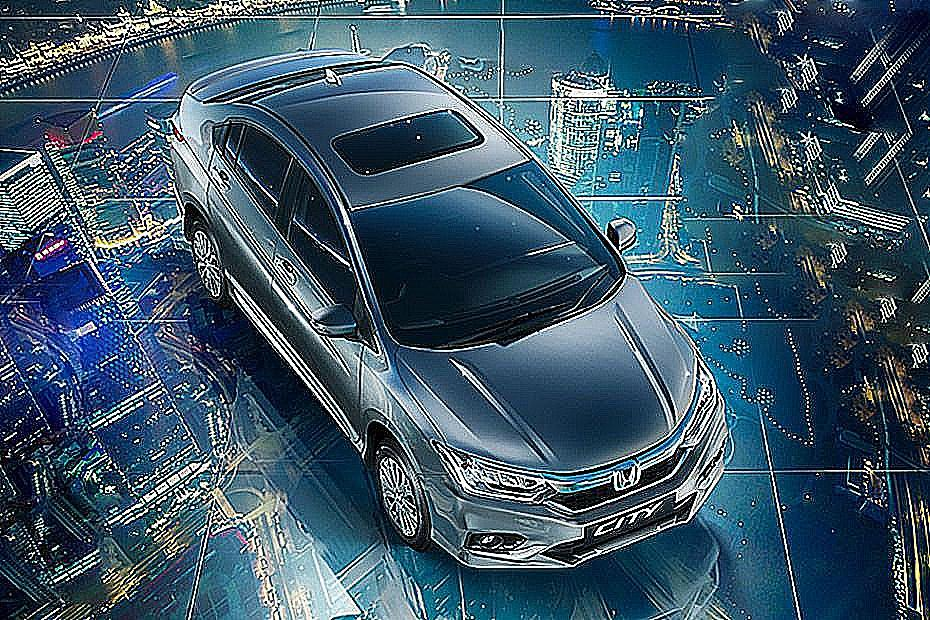Car boot: (177, 43, 367, 114)
Car hood: (396, 282, 707, 470)
Driver-s door - -F-R-: (254, 106, 362, 461)
Fender - -F-R-: (344, 294, 439, 487)
Fender - -R-R-: (158, 96, 228, 212)
Front bumper: (422, 389, 740, 569)
Headlight - -L-: (671, 355, 725, 460)
Headlight - -R-: (430, 436, 557, 510)
Passenger-s door - -R-R-: (195, 98, 320, 349)
Side bumper - -R-: (206, 275, 368, 479)
Side mirror - -L-: (601, 211, 643, 255)
Side mirror - -R-: (307, 307, 375, 343)
